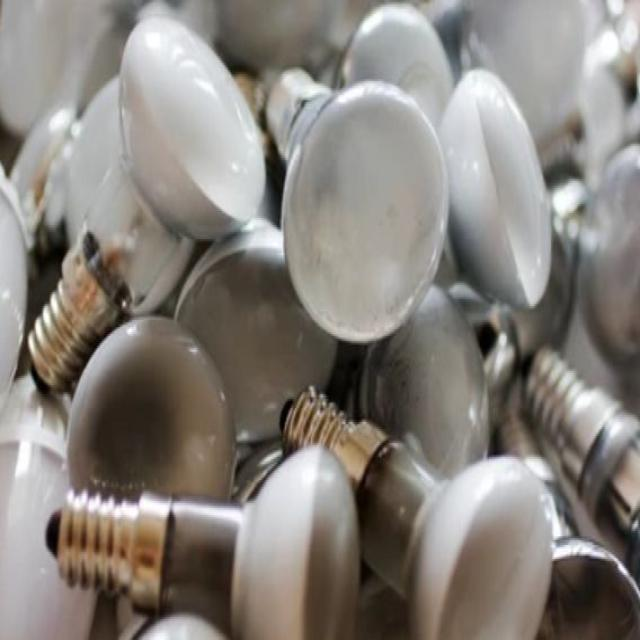electronic: (0, 0, 639, 638), (267, 65, 450, 343), (116, 12, 266, 241), (437, 65, 552, 311), (0, 151, 29, 436)
